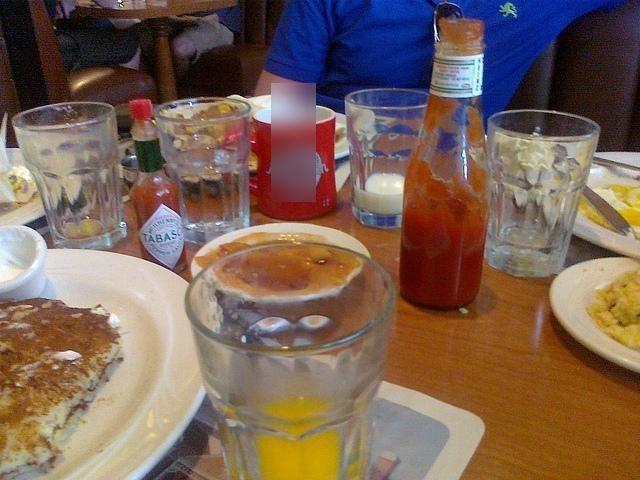bottle-glass: (396, 17, 491, 312)
glass-normal: (181, 235, 399, 477), (486, 110, 601, 278), (10, 101, 126, 249), (152, 95, 250, 244), (346, 88, 431, 229)
